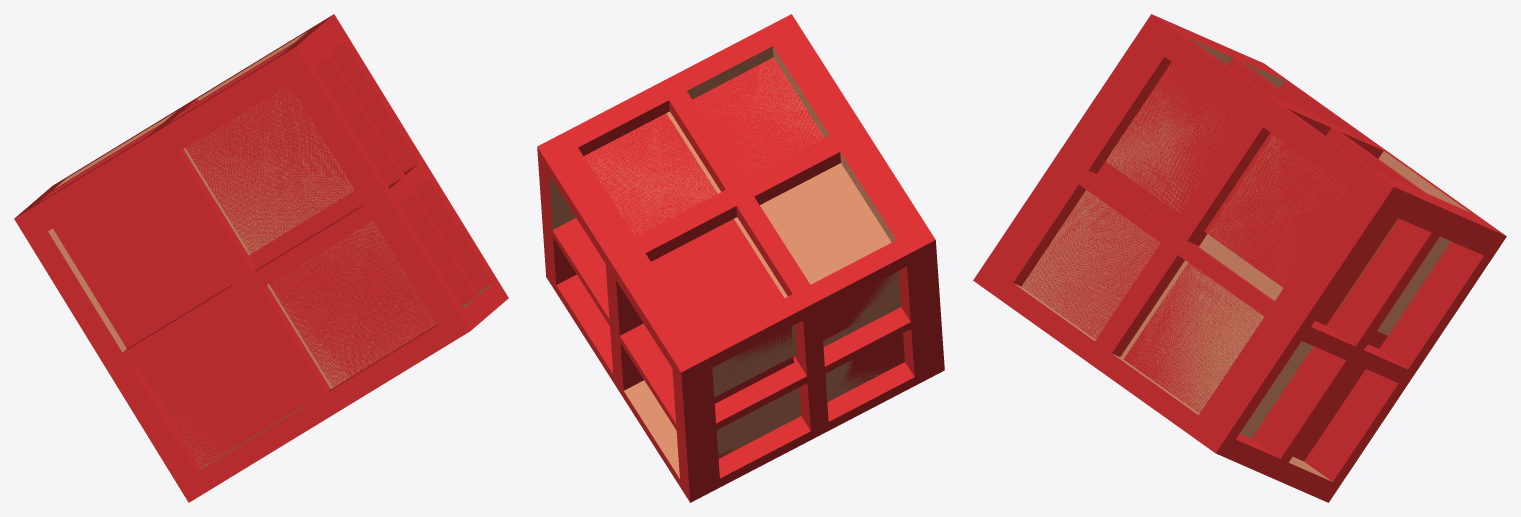
File: Decoration.fbx
3 views of the same model, side by side, from view 1: azimuth 30°, elevation 25°; view 2: azimuth 150°, elevation 25°; view 3: azimuth 270°, elevation 25° (orthographic). The views are drawn at different scales.
Visible parts, largest first — view 1: box; view 2: box; view 3: box.
Part boxes in pixels (x1,y1,x2,y2): box: (14,14,508,502); box: (537,14,944,502); box: (973,14,1506,502).
Size of the model in its own units: 739 by 745 by 755.
